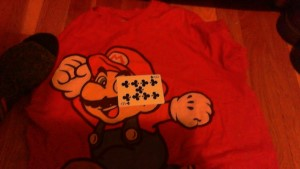NineOfClubs: (114, 73, 167, 107)
